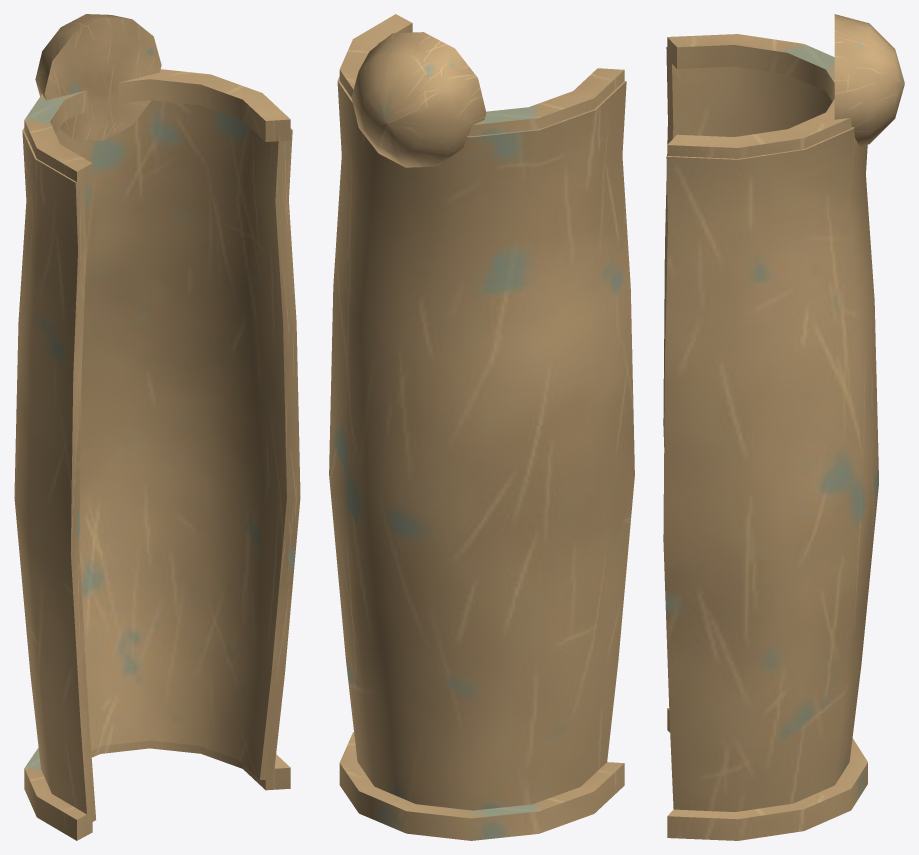
The model's file is greave_r.glb.
The picture shows the model from 3 angles, left to right: view 1: azimuth 30°, elevation 25°; view 2: azimuth 150°, elevation 25°; view 3: azimuth 270°, elevation 25°; orthographic projection. The views are drawn at different scales.
Parts seen in each view (by area): view 1: OUT; view 2: OUT; view 3: OUT.
Part boxes in pixels (left/top/right/bottom): OUT: left=14, top=14, right=300, bottom=840; OUT: left=329, top=14, right=634, bottom=840; OUT: left=663, top=14, right=904, bottom=840.
Size of the model in its own units: 0.1448 by 0.421 by 0.1205.
Materials: 1 (1 with a texture image).
